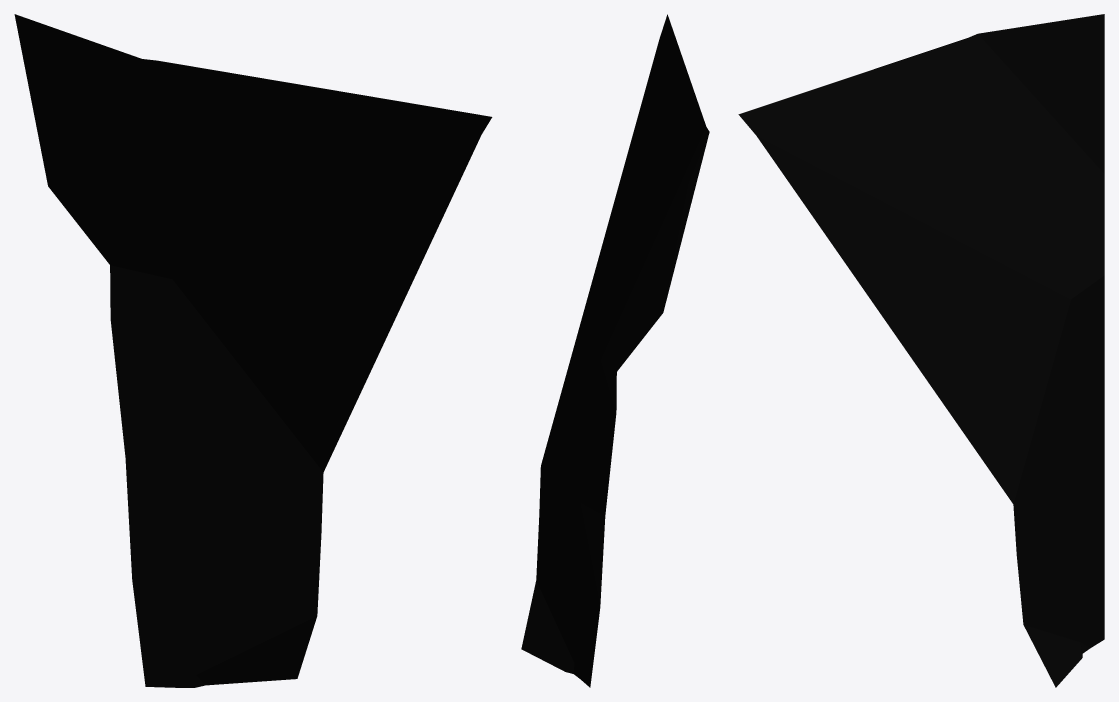
3 renders of one model, left to right at view 1: azimuth 30°, elevation 25°; view 2: azimuth 150°, elevation 25°; view 3: azimuth 270°, elevation 25°, orthographic. The views are drawn at different scales.
Size of the model in its own units: 1.11 by 2.95 by 1.71.
Materials: 1 (1 with a texture image).
